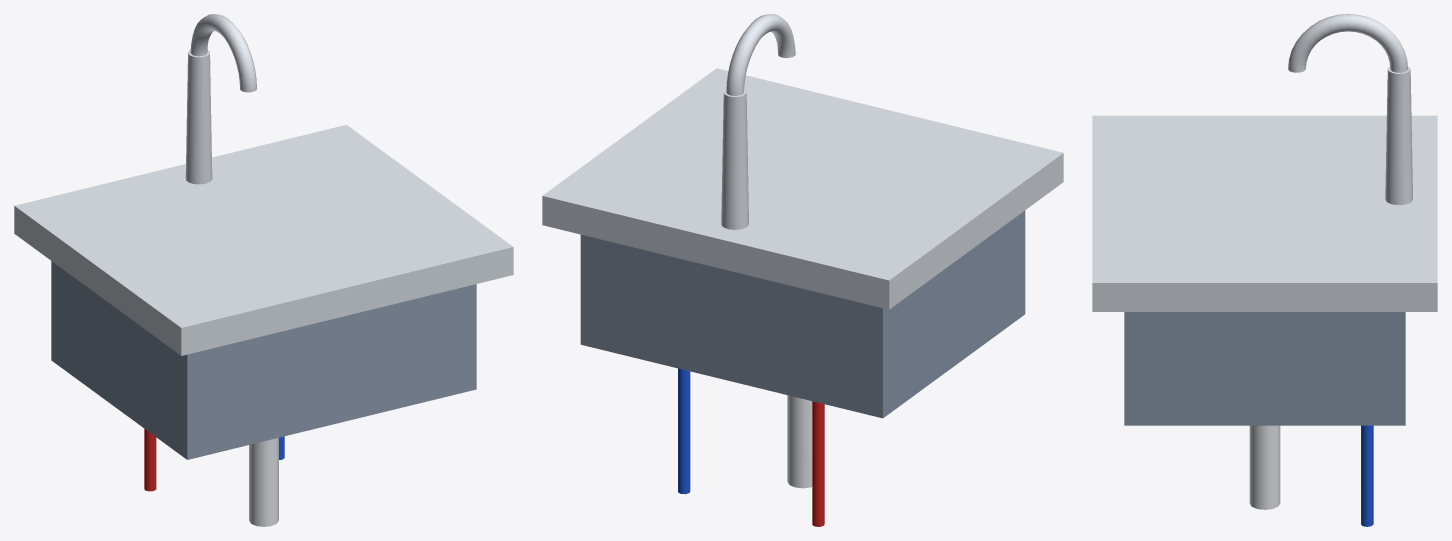
The model's file is fixture-laundry-sink.glb.
3 renders of one model, left to right at view 1: azimuth 30°, elevation 25°; view 2: azimuth 150°, elevation 25°; view 3: azimuth 270°, elevation 25°, orthographic. The views are drawn at different scales.
Visible parts, largest first — view 1: plumbing-fixture-laundry-sink; view 2: plumbing-fixture-laundry-sink; view 3: plumbing-fixture-laundry-sink.
Boxes of the visible parts, bbox=[...] form: plumbing-fixture-laundry-sink: bbox=[14, 14, 513, 526]; plumbing-fixture-laundry-sink: bbox=[542, 14, 1063, 526]; plumbing-fixture-laundry-sink: bbox=[1092, 14, 1437, 526].
Size of the model in its own units: 0.62 by 0.844 by 0.54.
